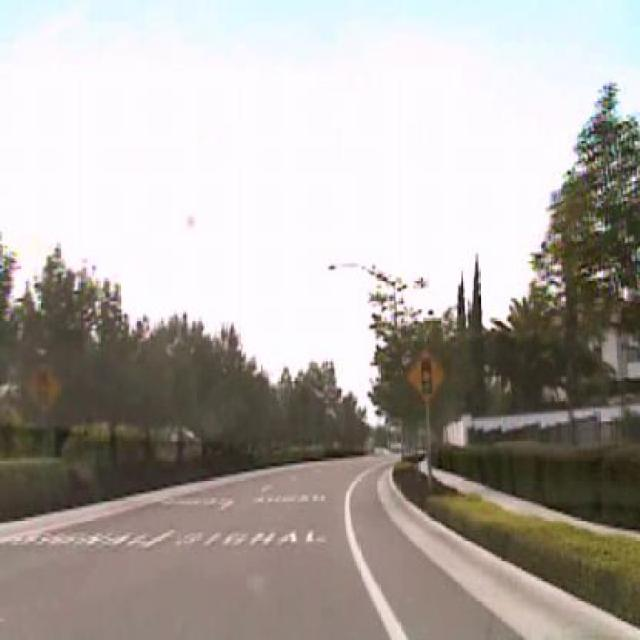signalAhead: (404, 345, 444, 402), (25, 360, 60, 413)
